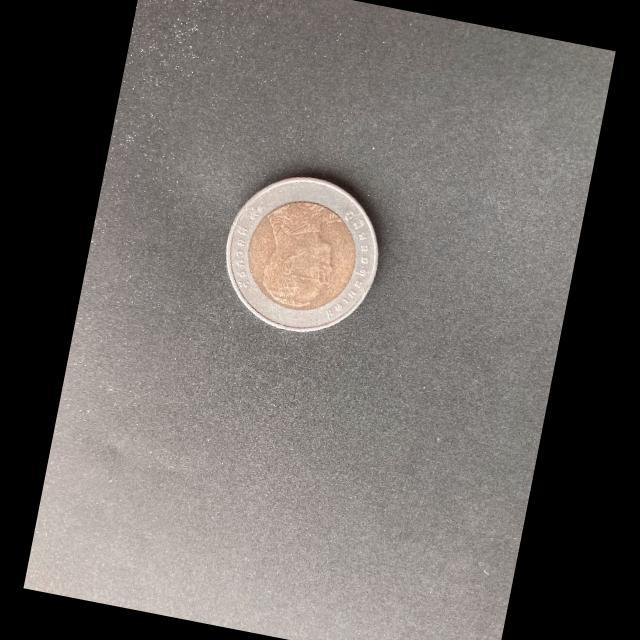10 Bath: (223, 174, 382, 336)
